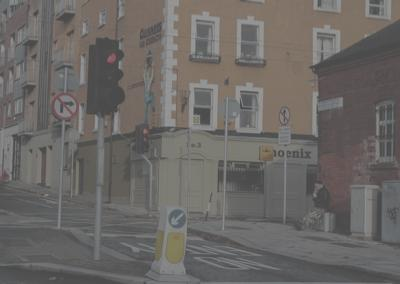International Road Signal Light: (87, 38, 125, 114), (135, 124, 148, 154)
